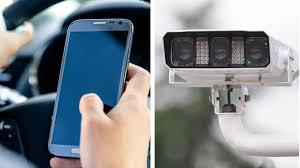Hand: (50, 63, 151, 168)
Smartphone: (47, 14, 133, 158)
